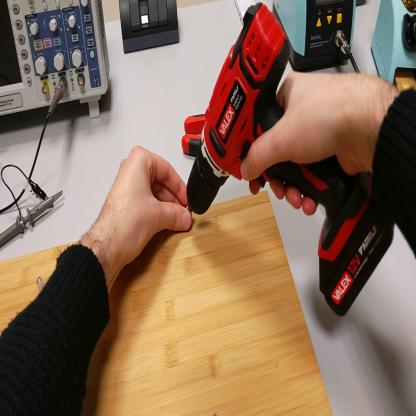electric screwdriver: (187, 2, 396, 316)
hand: (245, 69, 375, 211), (100, 144, 192, 269)
oscilloscope: (2, 1, 107, 138)
oscilloscope probe tip: (2, 193, 63, 245)
pliers: (182, 114, 206, 157)
welder base: (373, 3, 416, 90)
welder station: (273, 4, 357, 71)
working area: (1, 190, 333, 416)
